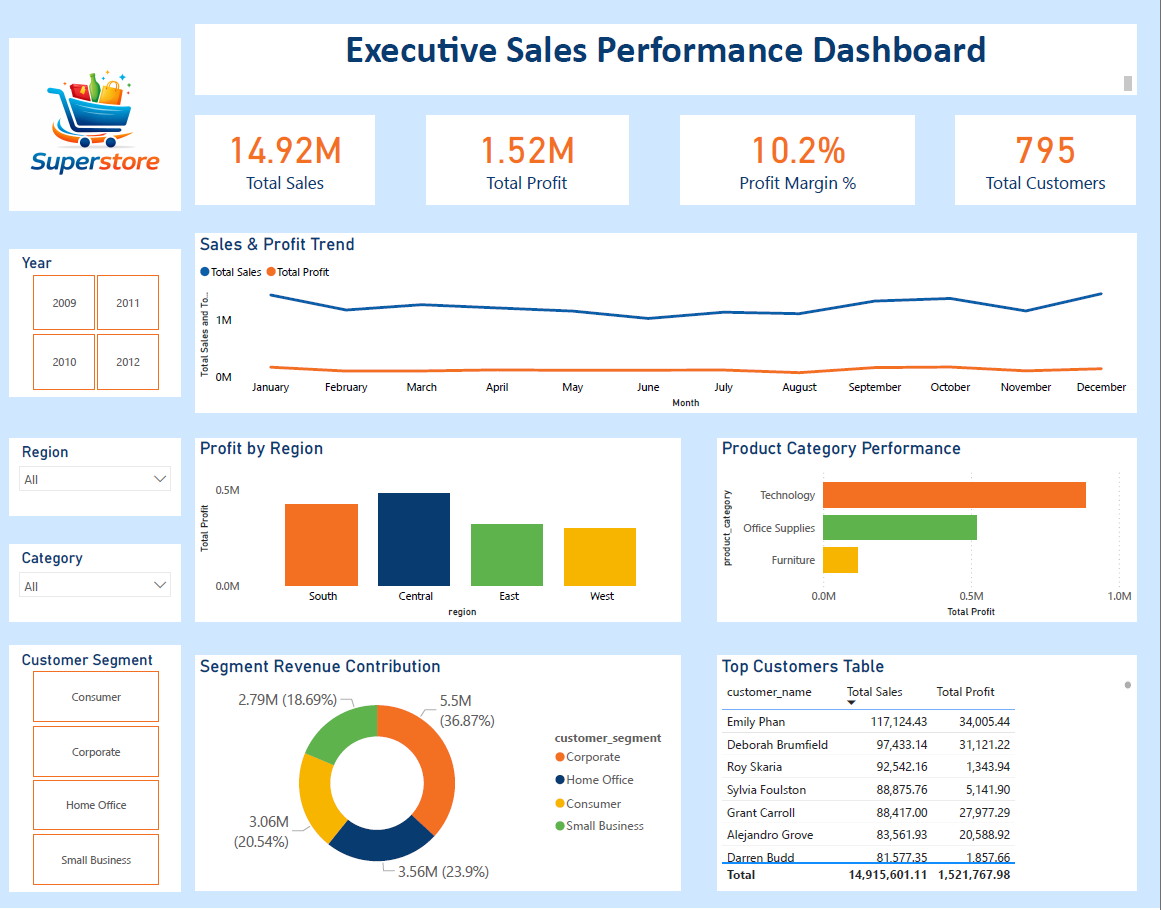

What the dashboard file says about the page in this screenshot:
{"tool":"powerbi","page":{"name":"Page 1","canvas":[1280,1000],"ordinal":0},"visuals":[{"type":"textbox","title":"Executive Sales Performance Dashboard","box":[216.7,28.3,1036.7,76.7],"z":0},{"type":"PBI_CV_7B952816_A48F_49B4_9E13_15E3BB2C0337","fields":{"Values":["orders.Total Sales"]},"box":[216.7,128.3,198.3,98.3],"z":1},{"type":"PBI_CV_7B952816_A48F_49B4_9E13_15E3BB2C0337","fields":{"Values":["orders.Total Profit"]},"box":[471.7,128.3,221.7,98.3],"z":2},{"type":"PBI_CV_7B952816_A48F_49B4_9E13_15E3BB2C0337","fields":{"Values":["orders.Profit Margin %"]},"box":[751.7,128.3,258.3,98.3],"z":3},{"type":"PBI_CV_7B952816_A48F_49B4_9E13_15E3BB2C0337","fields":{"Values":["orders.Total Customers"]},"box":[1055,128.3,198.3,98.3],"z":4},{"type":"lineChart","title":"Sales & Profit Trend","fields":{"Y":["orders.Total Sales","orders.Total Profit"],"Category":["dim_date.Date.Variation.Date Hierarchy.Month"]},"box":[216.7,258.3,1036.7,196.7],"z":5},{"type":"clusteredColumnChart","title":"Profit by Region","fields":{"Category":["orders.region"],"Y":["orders.Total Profit"]},"box":[216.7,483.3,535,201.7],"z":6},{"type":"barChart","title":"Product Category Performance","fields":{"Category":["orders.product_category"],"Y":["orders.Total Profit"]},"box":[791.7,483.3,461.7,201.7],"z":7},{"type":"donutChart","title":"Segment Revenue Contribution","fields":{"Category":["orders.customer_segment"],"Y":["orders.Total Sales"]},"box":[216.7,723.3,535,258.3],"z":8},{"type":"tableEx","title":"Top Customers Table","fields":{"Values":["orders.customer_name","orders.Total Sales","orders.Total Profit"]},"box":[791.7,723.3,461.7,258.3],"z":9},{"type":"image","box":[13.3,0,188.3,275],"z":10},{"type":"slicer","fields":{"Values":["dim_date.Year"]},"box":[13.3,275,188.3,161.7],"z":11},{"type":"slicer","fields":{"Values":["orders.region"]},"box":[13.3,483.3,188.3,85],"z":12},{"type":"slicer","fields":{"Values":["orders.product_category"]},"box":[13.3,600,188.3,85],"z":13},{"type":"slicer","fields":{"Values":["orders.customer_segment"]},"box":[13.3,711.7,188.3,270],"z":14}]}

Visuals, with their boxes in screenshot pixels (x1, y1, x2, y2), scaled from the page's 1280x1000 canvas onto the 1161x910 screenshot:
"Executive Sales Performance Dashboard" textbox: rect(197, 26, 1137, 96)
PBI_CV_7B952816_A48F_49B4_9E13_15E3BB2C0337 - orders.Total Sales: rect(197, 117, 376, 206)
PBI_CV_7B952816_A48F_49B4_9E13_15E3BB2C0337 - orders.Total Profit: rect(428, 117, 629, 206)
PBI_CV_7B952816_A48F_49B4_9E13_15E3BB2C0337 - orders.Profit Margin %: rect(682, 117, 916, 206)
PBI_CV_7B952816_A48F_49B4_9E13_15E3BB2C0337 - orders.Total Customers: rect(957, 117, 1137, 206)
"Sales & Profit Trend" lineChart: rect(197, 235, 1137, 414)
"Profit by Region" clusteredColumnChart: rect(197, 440, 682, 623)
"Product Category Performance" barChart: rect(718, 440, 1137, 623)
"Segment Revenue Contribution" donutChart: rect(197, 658, 682, 893)
"Top Customers Table" tableEx: rect(718, 658, 1137, 893)
image: rect(12, 0, 183, 250)
slicer - dim_date.Year: rect(12, 250, 183, 397)
slicer - orders.region: rect(12, 440, 183, 517)
slicer - orders.product_category: rect(12, 546, 183, 623)
slicer - orders.customer_segment: rect(12, 648, 183, 893)
